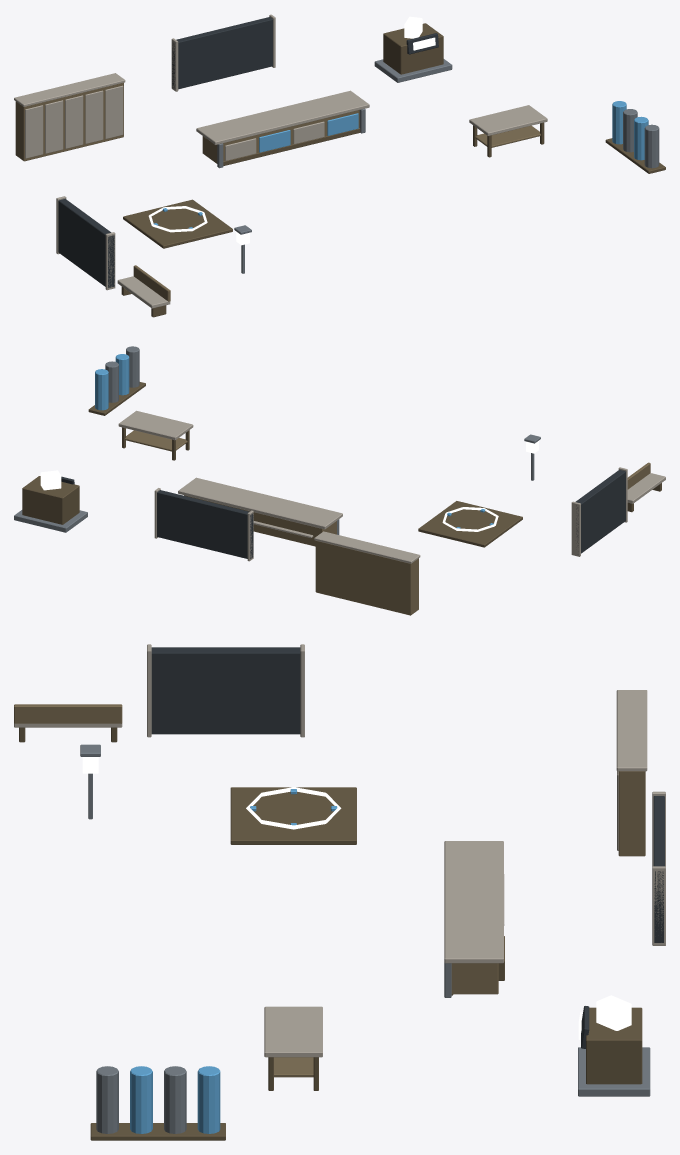
The model's file is returnstone_pad_office.lod1.glb.
3 renders of one model, top to bottom at view 1: azimuth 30°, elevation 25°; view 2: azimuth 150°, elevation 25°; view 3: azimuth 270°, elevation 25°, orthographic. The views are drawn at different scales.
Bounding box in the file's own units: 21.62 × 2.82 × 14.45.
